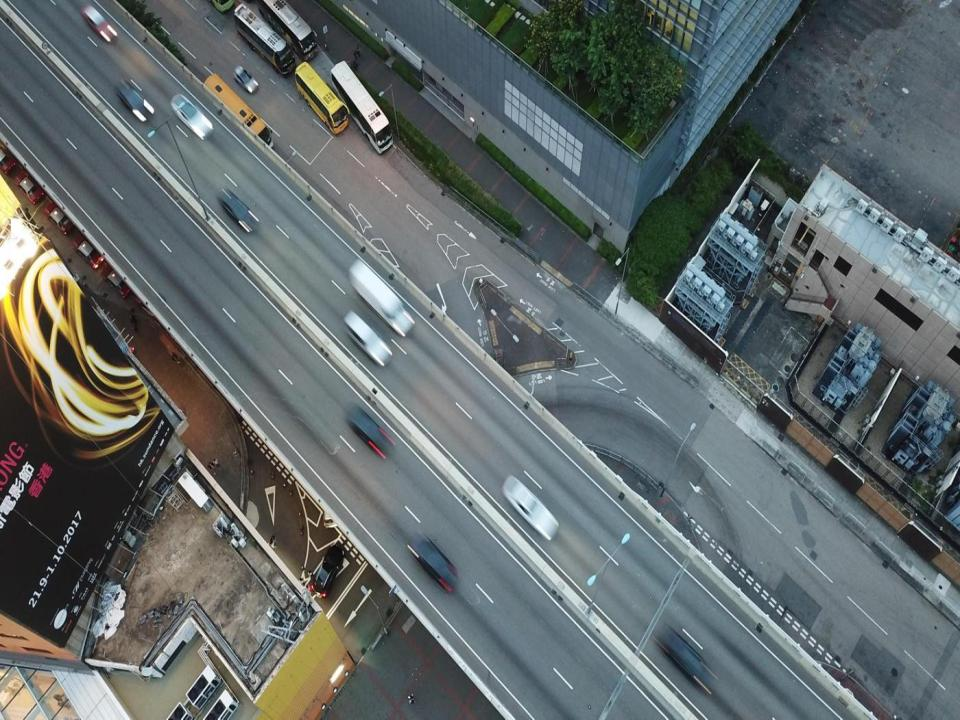bus: (202, 72, 278, 156), (330, 60, 393, 154), (233, 3, 296, 78), (294, 62, 348, 143), (261, 0, 319, 60)
car: (658, 622, 722, 697), (502, 473, 559, 540), (407, 532, 462, 596), (347, 404, 396, 459), (168, 88, 213, 142), (311, 545, 346, 600), (218, 188, 260, 232), (80, 3, 122, 45), (114, 80, 154, 124), (100, 264, 131, 300), (11, 172, 42, 207), (74, 234, 105, 268), (43, 201, 71, 233), (232, 65, 261, 95)
van: (346, 255, 414, 340), (342, 310, 394, 368)
